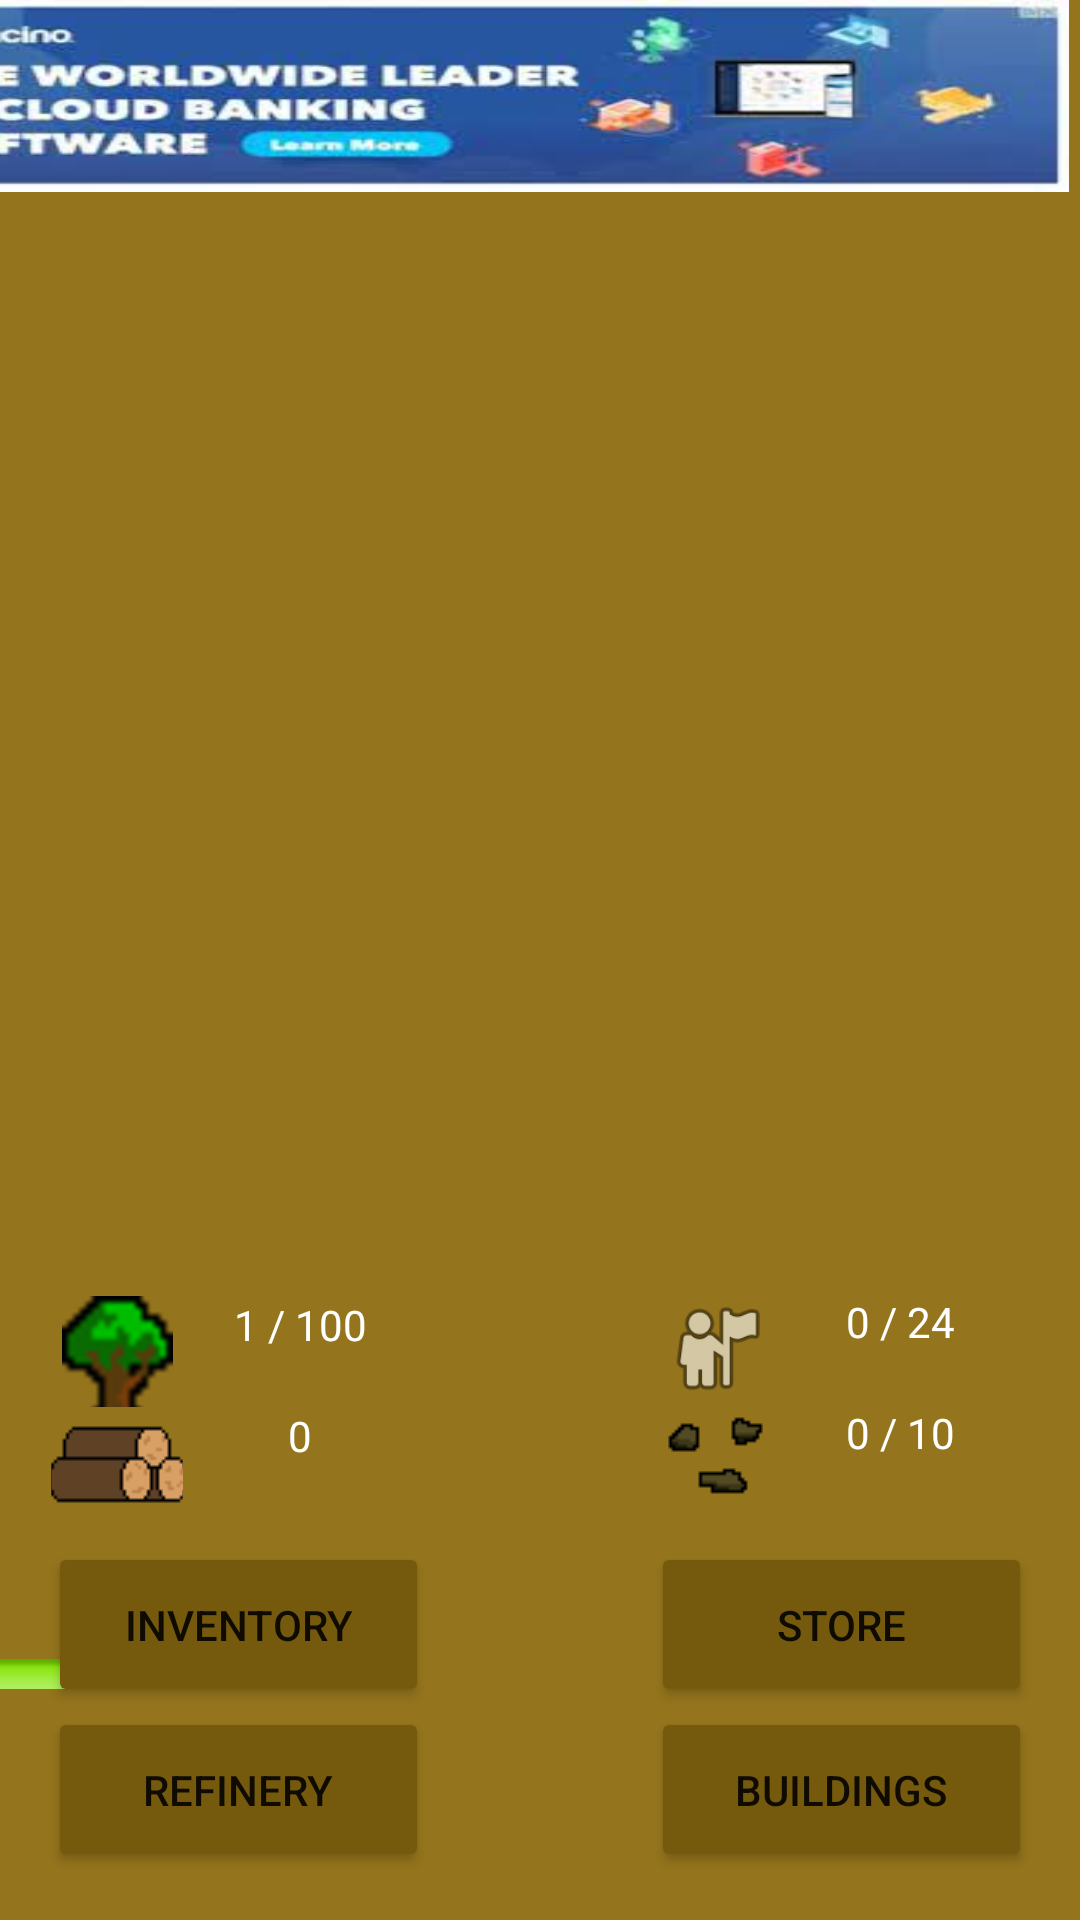

Icons on this 1080px×1920px Android screen, each with the point to tap as (x=x, y=y):
logs: (x=117, y=1464)
